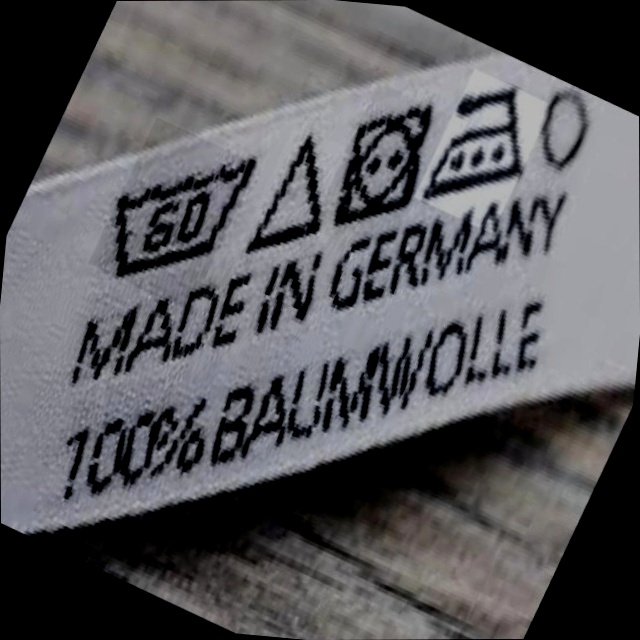60C: (94, 138, 260, 284)
bleach: (251, 126, 334, 260)
iron_high: (426, 74, 536, 209)
tumble_dry_medium: (335, 92, 434, 229)
